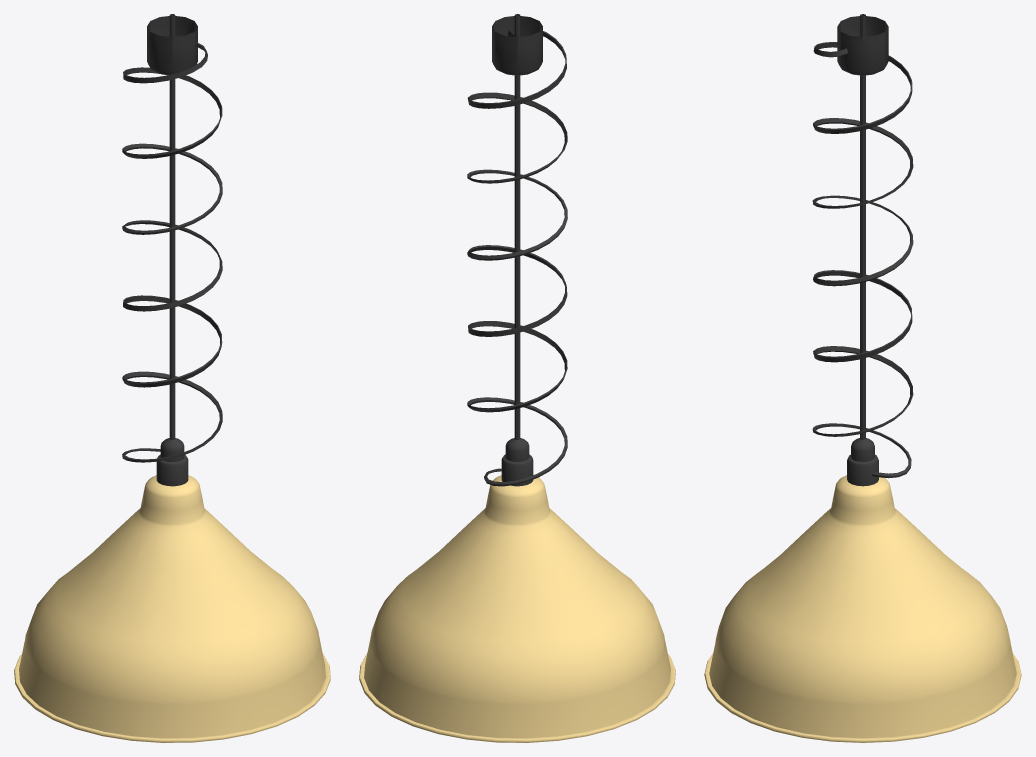
The model's file is SM_LampS2.fbx.
3 views of the same model, side by side, from view 1: azimuth 30°, elevation 25°; view 2: azimuth 150°, elevation 25°; view 3: azimuth 270°, elevation 25° (orthographic).
Parts seen in each view (by area): view 1: SM_LampS2_LOD0; view 2: SM_LampS2_LOD0; view 3: SM_LampS2_LOD0.
Boxes of the visible parts, x1=… form: SM_LampS2_LOD0: x1=14, y1=14, x2=330, y2=742; SM_LampS2_LOD0: x1=359, y1=14, x2=675, y2=742; SM_LampS2_LOD0: x1=704, y1=14, x2=1021, y2=742.
Size of the model in its own units: 80.97 by 80.97 by 186.
Materials: 2 (2 with a texture image).
